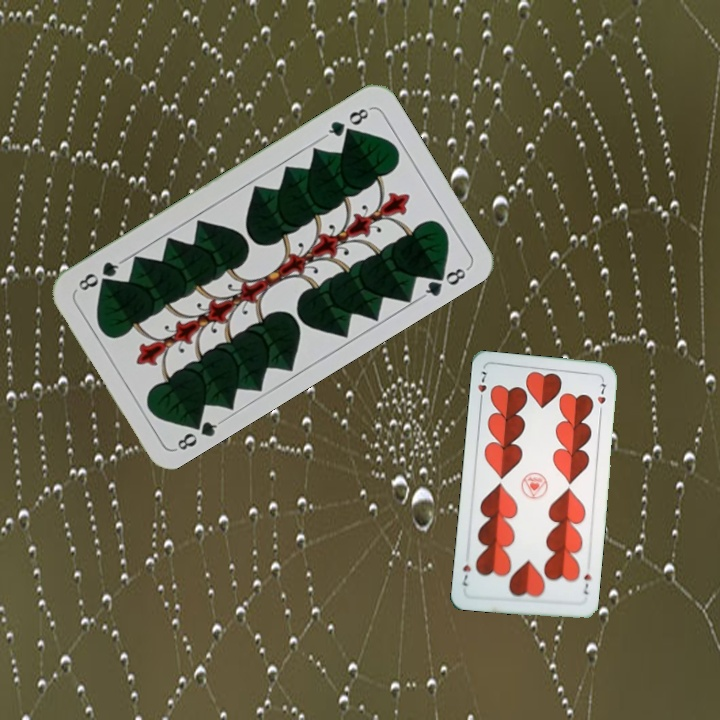G8: (172, 412, 225, 453), (320, 104, 373, 141)
H7: (474, 367, 489, 406), (579, 570, 594, 597)
